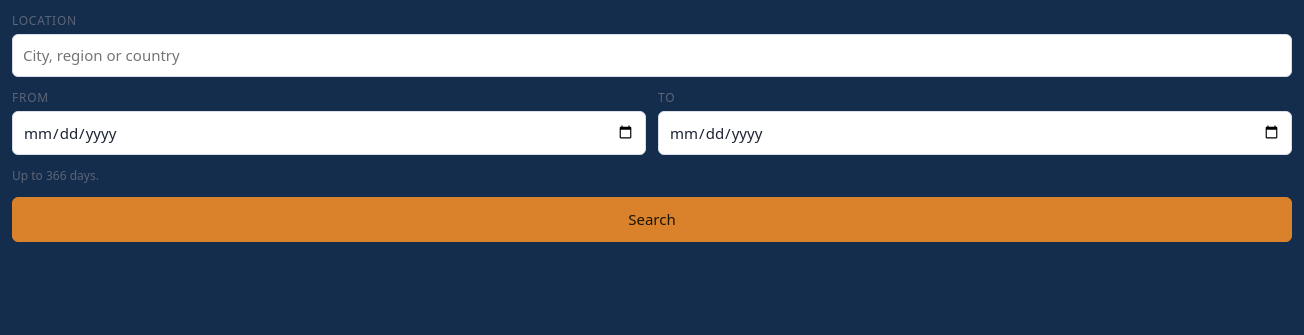
Test case: SearchForm › explains a place the geocoder does not find and marks the location field
Type "Santiagoo" into the field labelled "Location" at (652, 55), box [12,34,1292,76]
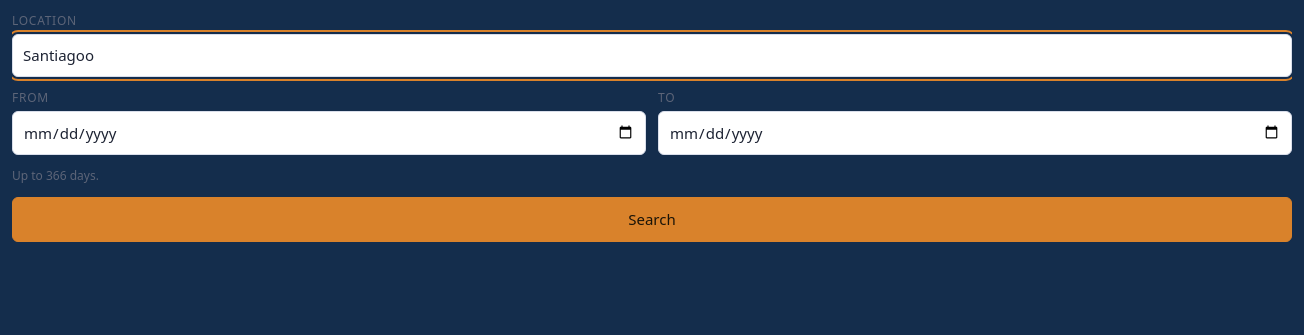
Type "2026-06-21" into the date field labelled "From" at (329, 133), box [12,110,646,155]
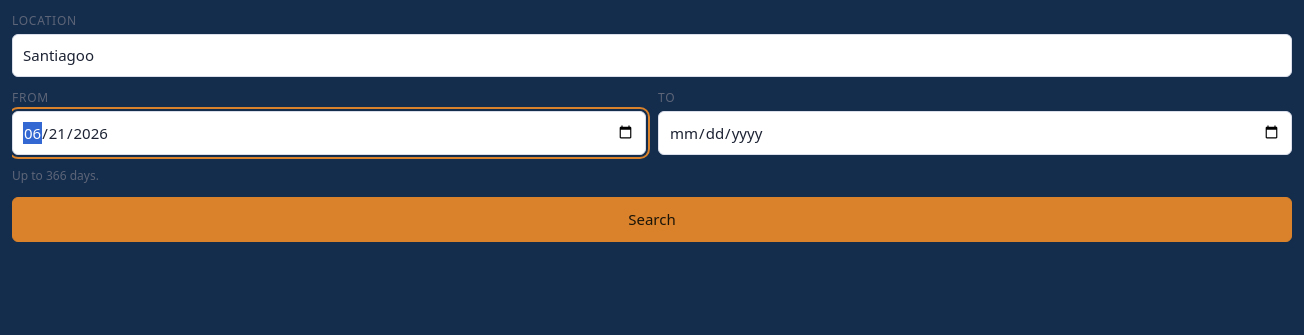
Type "2026-06-22" into the date field labelled "To" at (975, 133), box [658,110,1292,155]
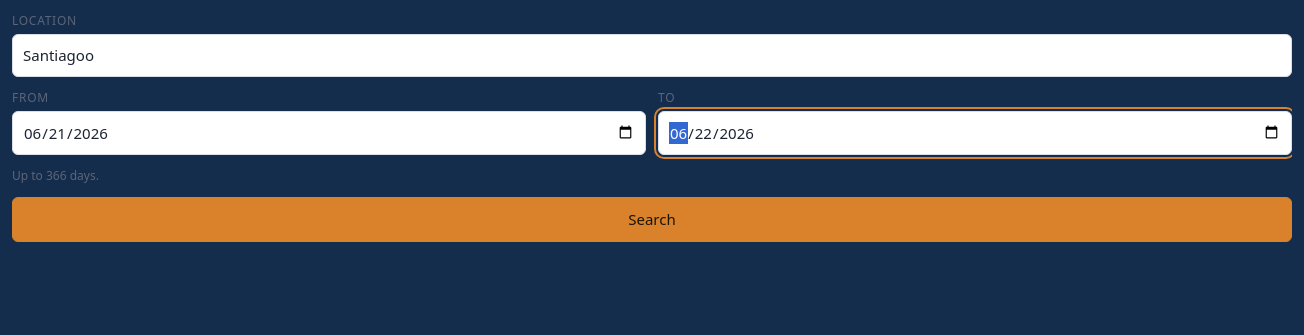
Click the button "Search" at (652, 219), box [12,197,1292,242]
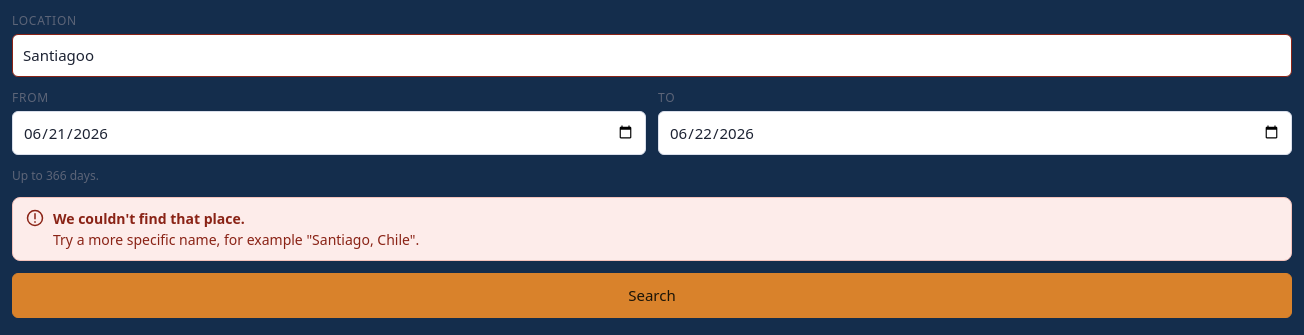
Expected: the message does not show "Bad Request", [12,197,1292,261]
Now the message shows "We couldn't find that place. Try a more specific name, for example \"Santiago, Chile\".", box [12,197,1292,261]
